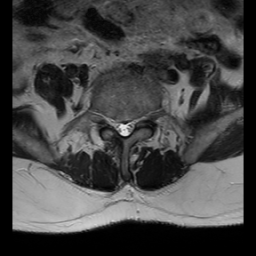CCS_severe_stenosis: (120, 114, 128, 144)
LFS_stenosis: (136, 107, 144, 130)
LLS_normal: (128, 113, 136, 137)
RFS_normal: (106, 108, 113, 134)
RLS_normal: (113, 113, 120, 138)
